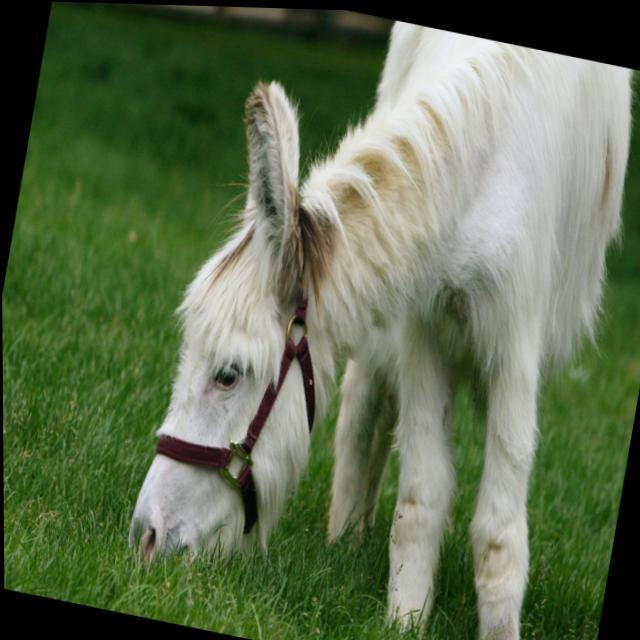Donkey: (111, 3, 640, 640)
